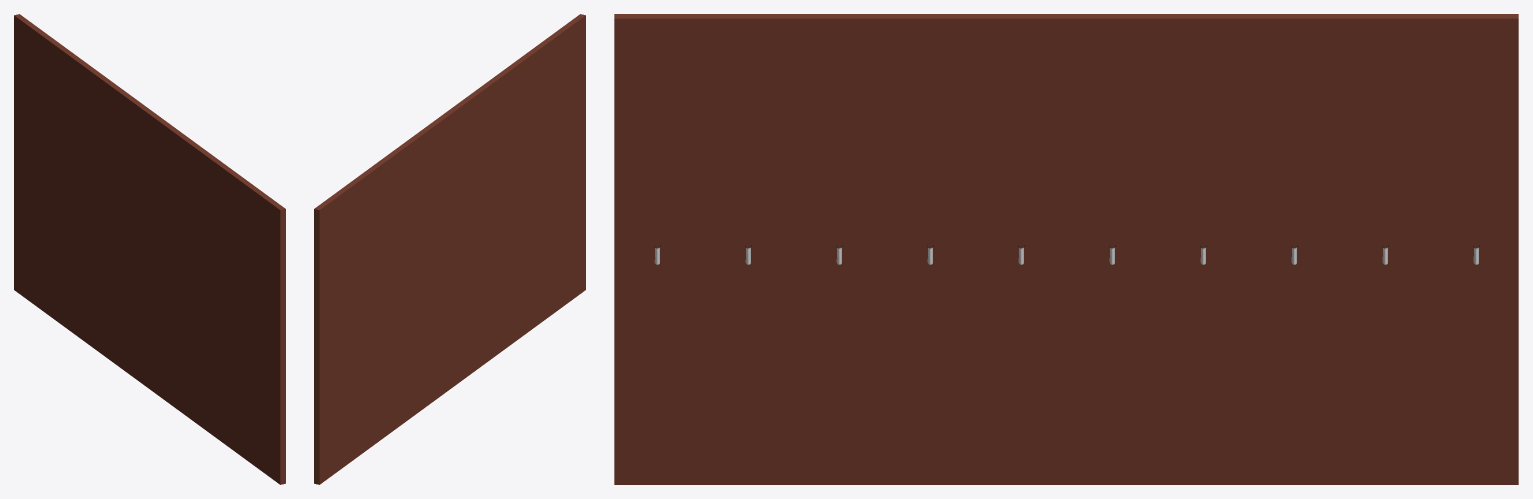
Rendered from lib_rightbackwall.fbx.
3 renders of one model, left to right at view 1: azimuth 30°, elevation 25°; view 2: azimuth 150°, elevation 25°; view 3: azimuth 270°, elevation 25°, orthographic. The views are drawn at different scales.
Parts seen in each view (by area): view 1: MalloditeLightPillar3.001; view 2: MalloditeLightPillar3.001; view 3: MalloditeLightPillar3.001.
Boxes of the visible parts, box(x1,y1,x2,y2) form: MalloditeLightPillar3.001: box(14, 14, 285, 484); MalloditeLightPillar3.001: box(314, 14, 585, 484); MalloditeLightPillar3.001: box(614, 14, 1518, 484).
Bounding box in the file's own units: 348 × 10479 × 18409.
